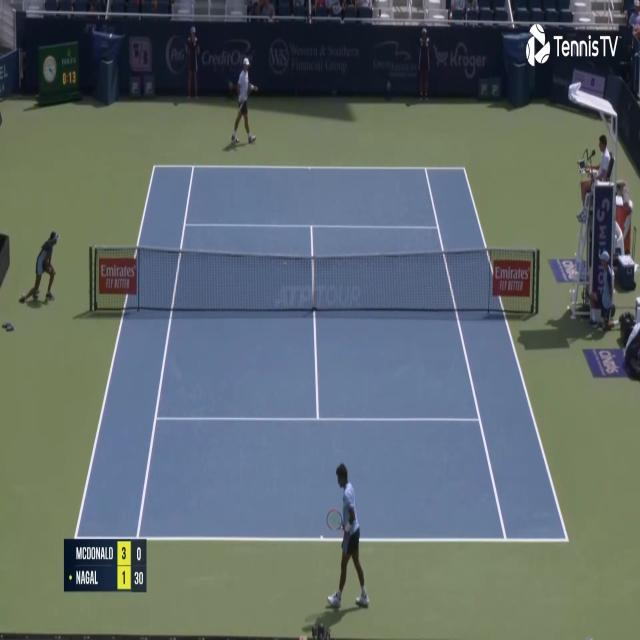tennis-player: (323, 459, 372, 615), (228, 56, 260, 144)
